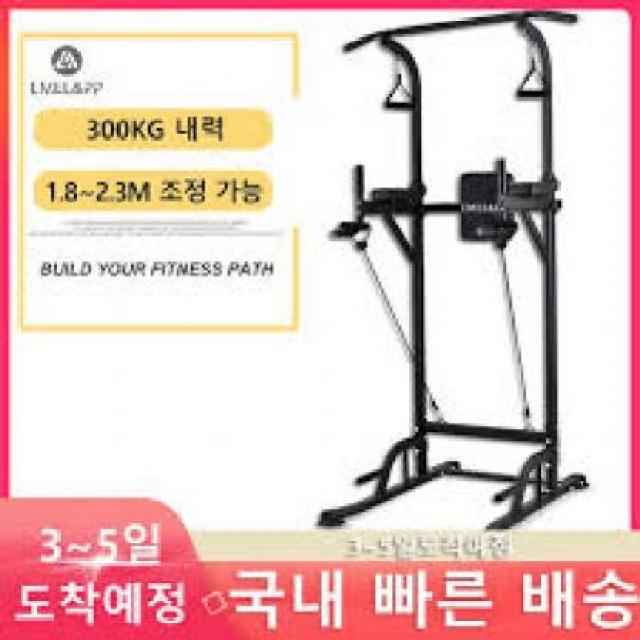chinning dipping: (315, 9, 591, 534)
